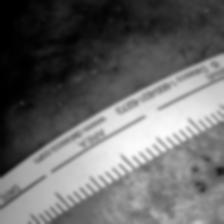Potentially Malignant Skin Tumors: (205, 166, 224, 180)
